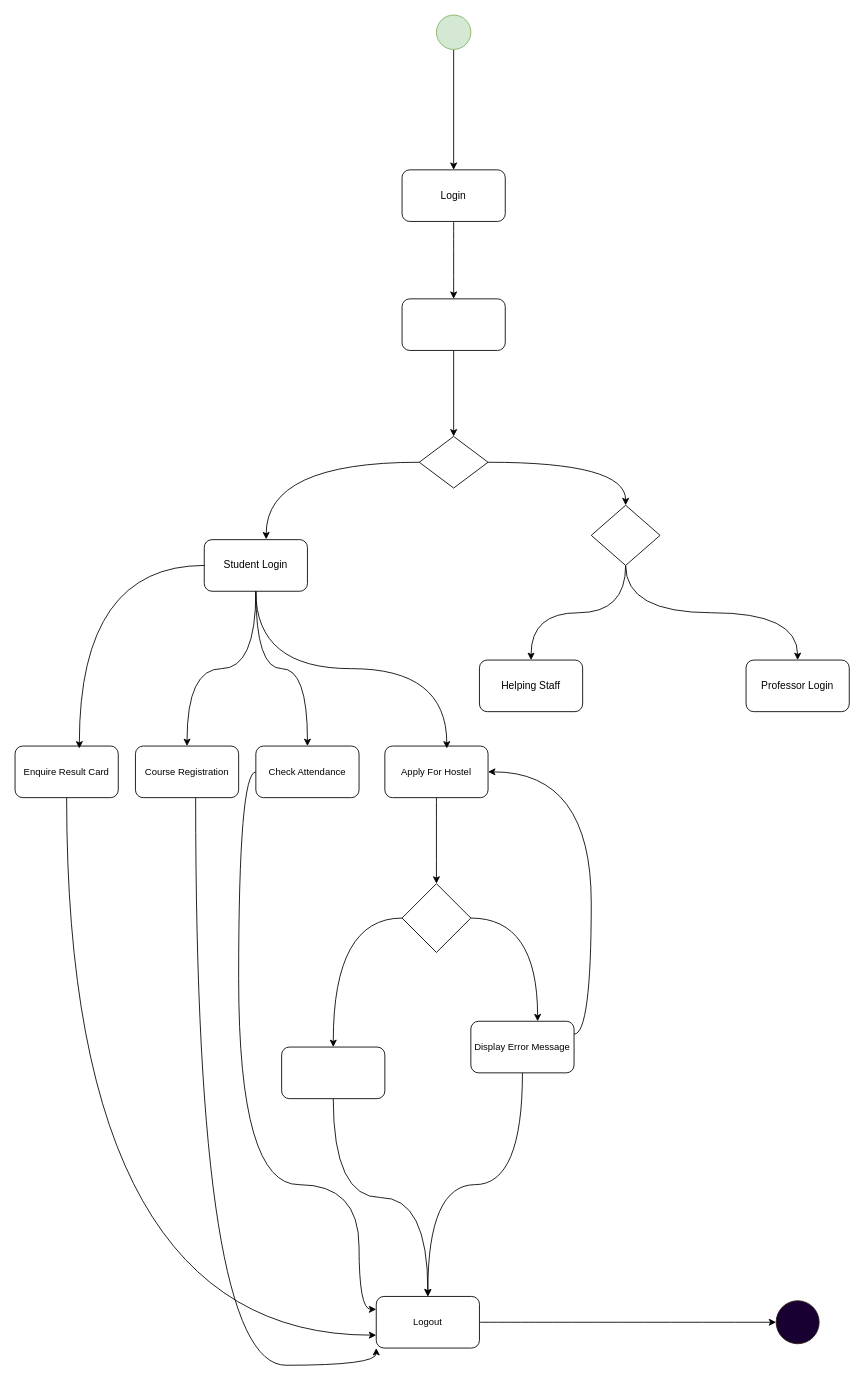
Some shapes in this 864 by 1380 pixel diagram are drawn without their labels. The centre of each missing label's shape, as x and y in pixels:
Check Permissions to Access Functions: (x=453, y=324)
Fetch Hostel Details: (x=333, y=1072)
Got Hostel?: (x=436, y=917)
Is Professor?: (x=625, y=534)
Is Student?: (x=453, y=462)
